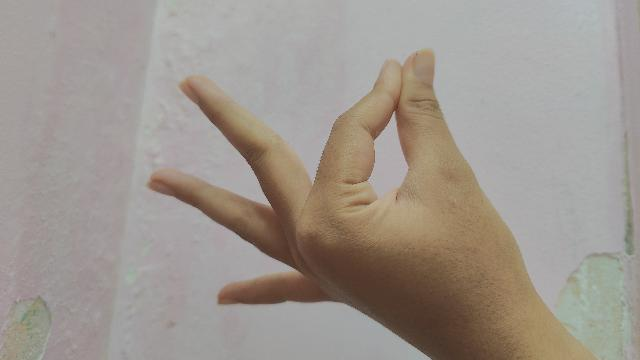hansaasya: (144, 48, 600, 360)
